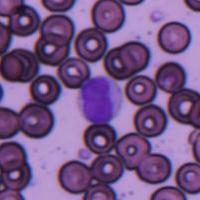M: (78, 75, 123, 124)
